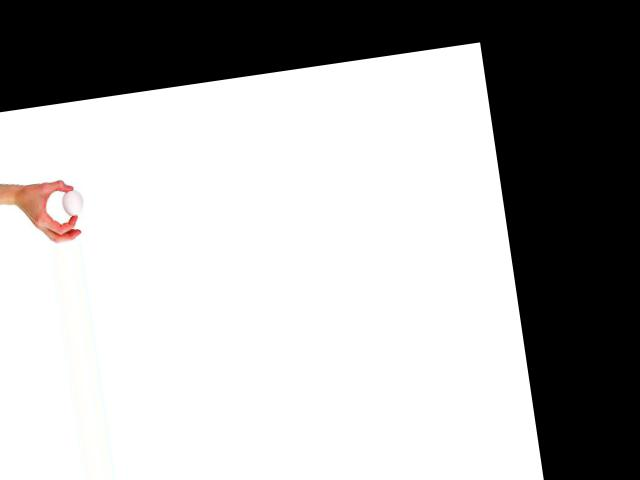egg: (60, 188, 84, 217)
